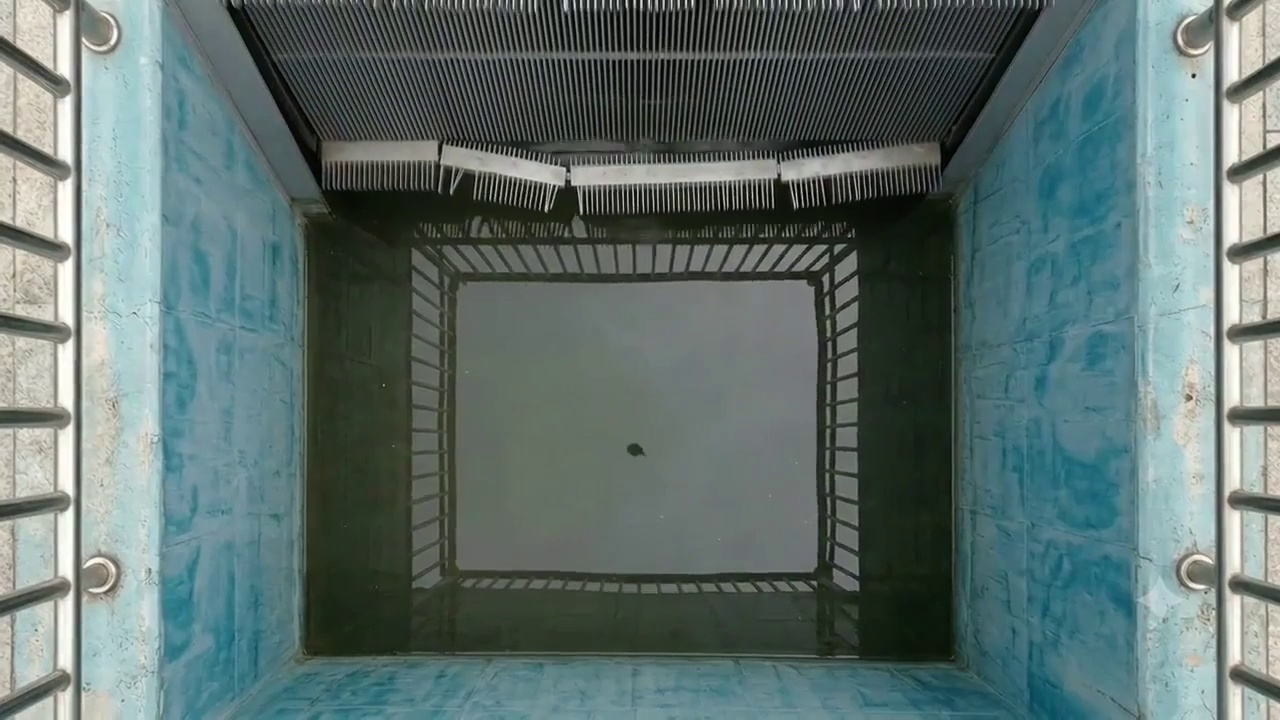damage: (415, 133, 952, 222)
